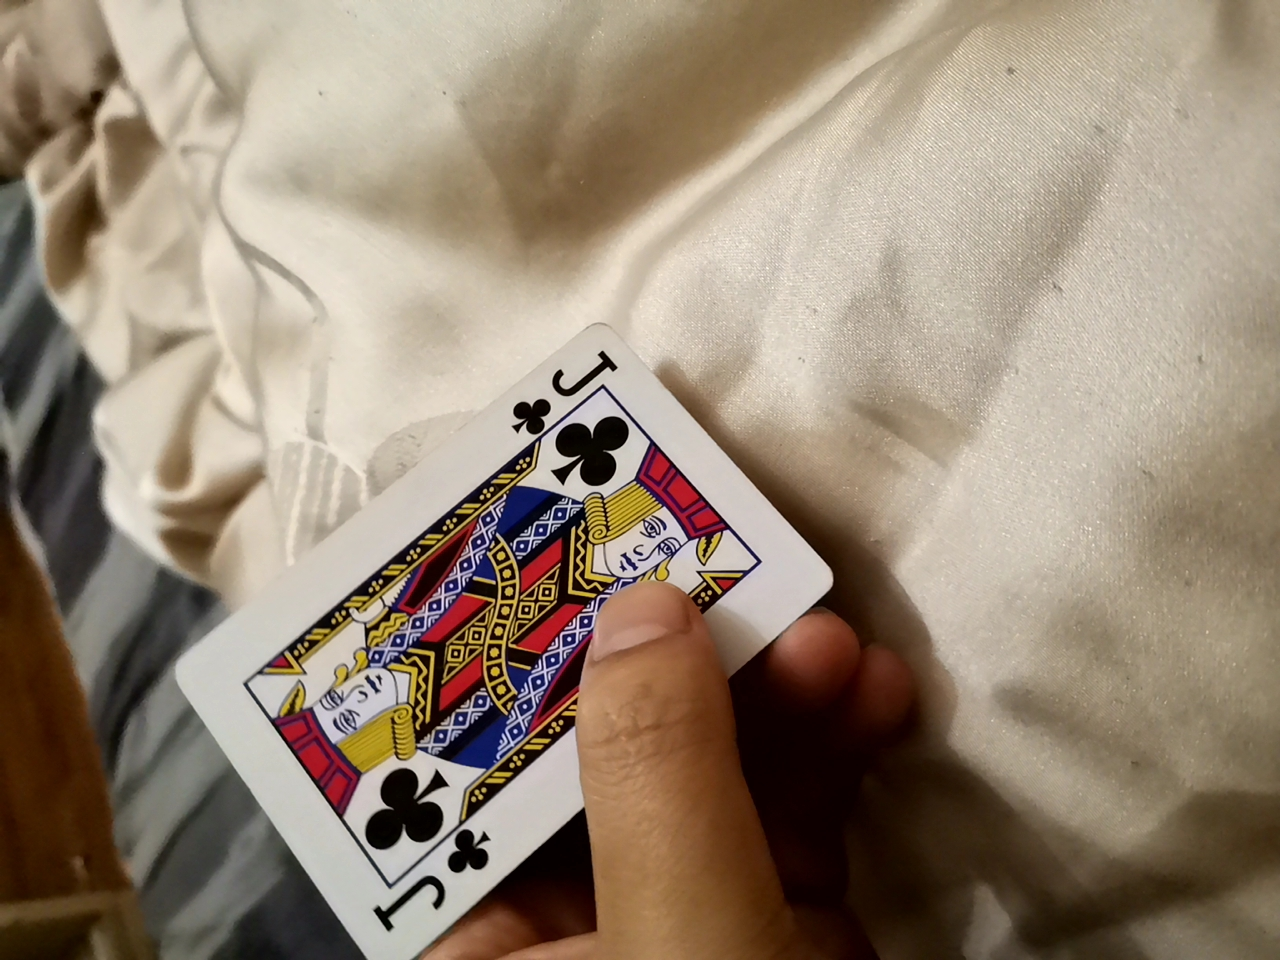mh j: (200, 330, 786, 932)
